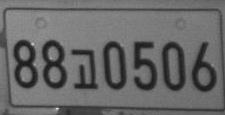0: (161, 40, 186, 91), (102, 39, 127, 89)
5: (132, 40, 158, 90)
6: (191, 41, 217, 92)
8: (12, 38, 39, 89), (41, 38, 68, 89)
고: (71, 48, 98, 90)
